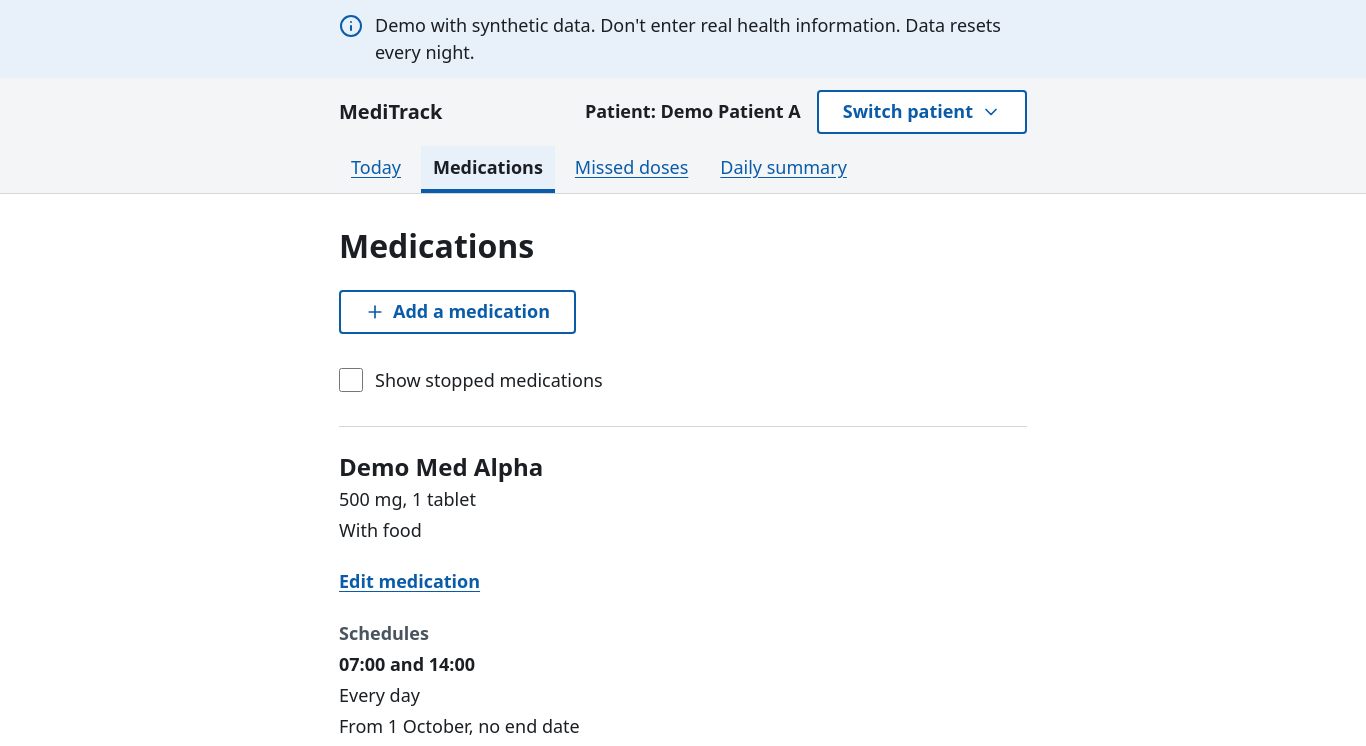
Patient switcher › closes on Esc and puts focus back on the button
The image size is (1366, 746).
Click the button "Switch patient" at [922, 112], box left=817, top=90, right=1027, bottom=134
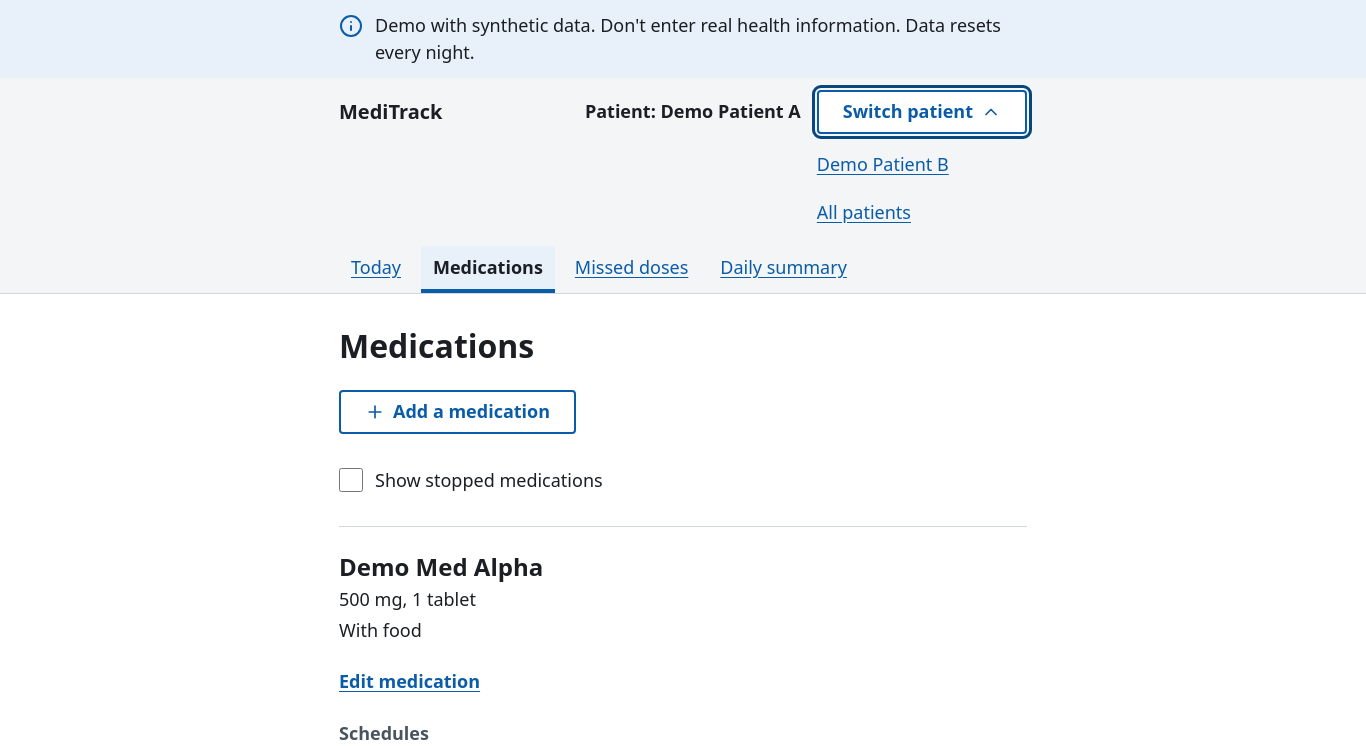
Now the link "Demo Patient B" is shown, box left=817, top=152, right=949, bottom=176
Press Escape
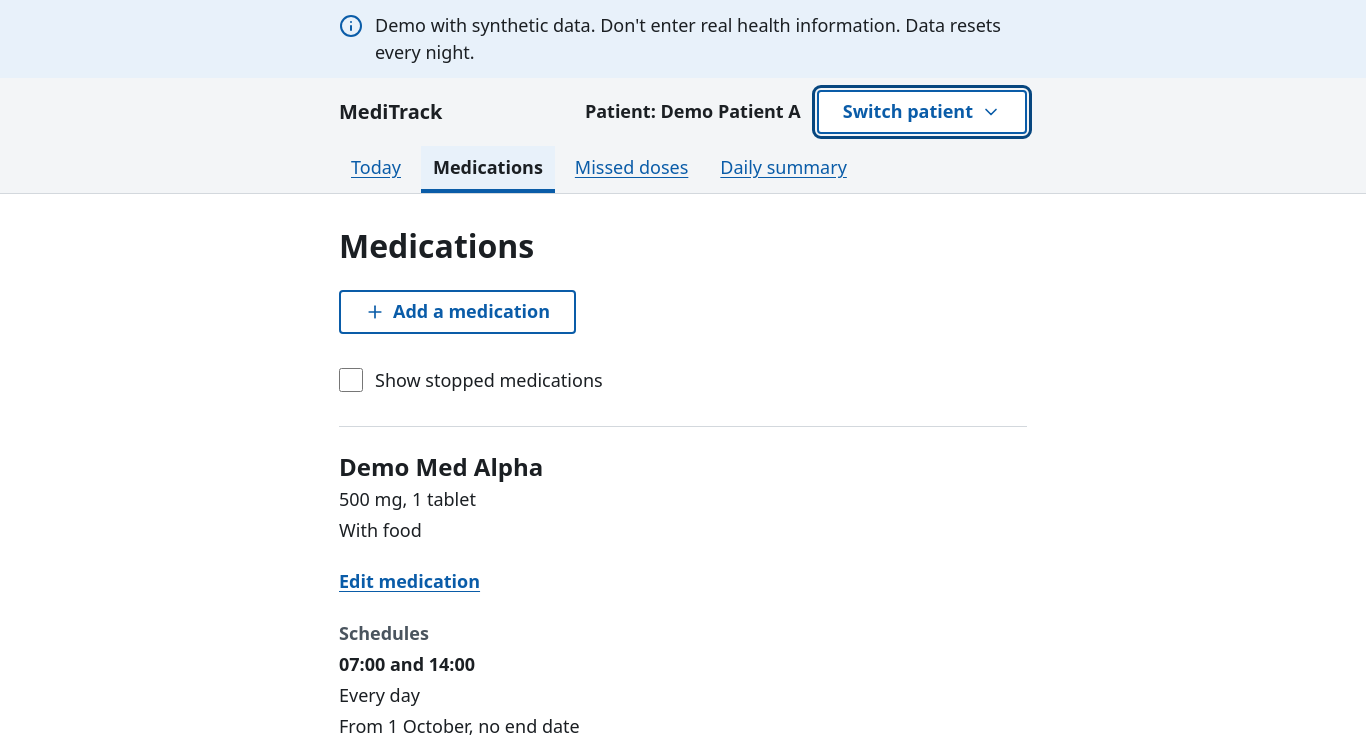
Now the link "Demo Patient B" is gone
